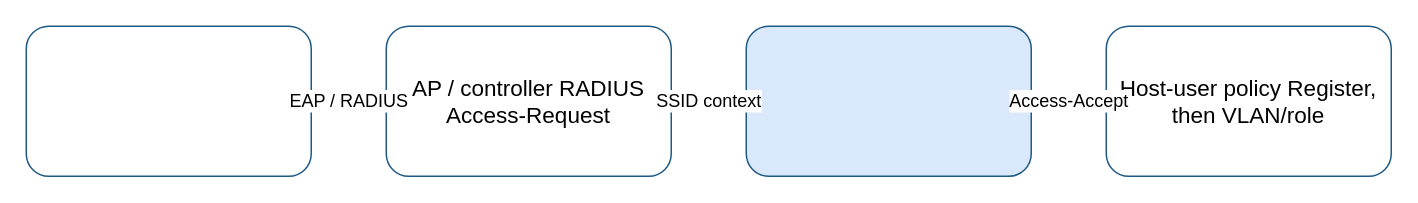
The diagram is 1418 pixels wide and 203 high, and some of its shapes have lost their labels. The shapes that lost their labels are listed below. From the top down, each one's centre as x and y in pixels, then its label:
At (x=168, y=100): "Wireless client 802.1X EAP".
At (x=888, y=100): "FortiNAC Attribute 30 SSID".
